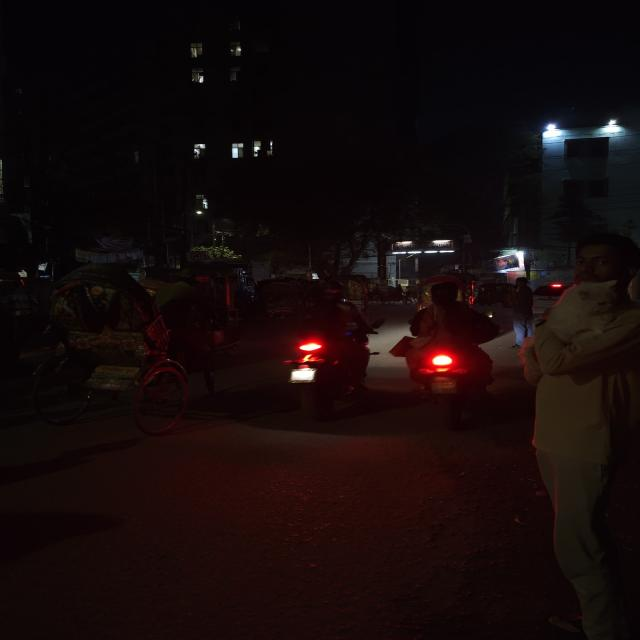motorcycle: (389, 281, 498, 428), (269, 286, 377, 414)
pedestrian: (536, 231, 640, 639), (511, 268, 536, 354)
rickshaw: (31, 261, 250, 439)
